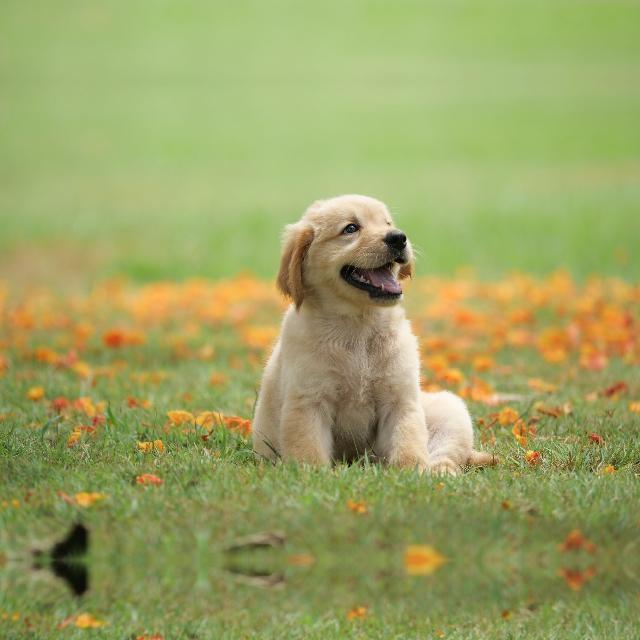dog: (234, 152, 476, 516), (233, 603, 476, 640), (233, 0, 476, 7)
